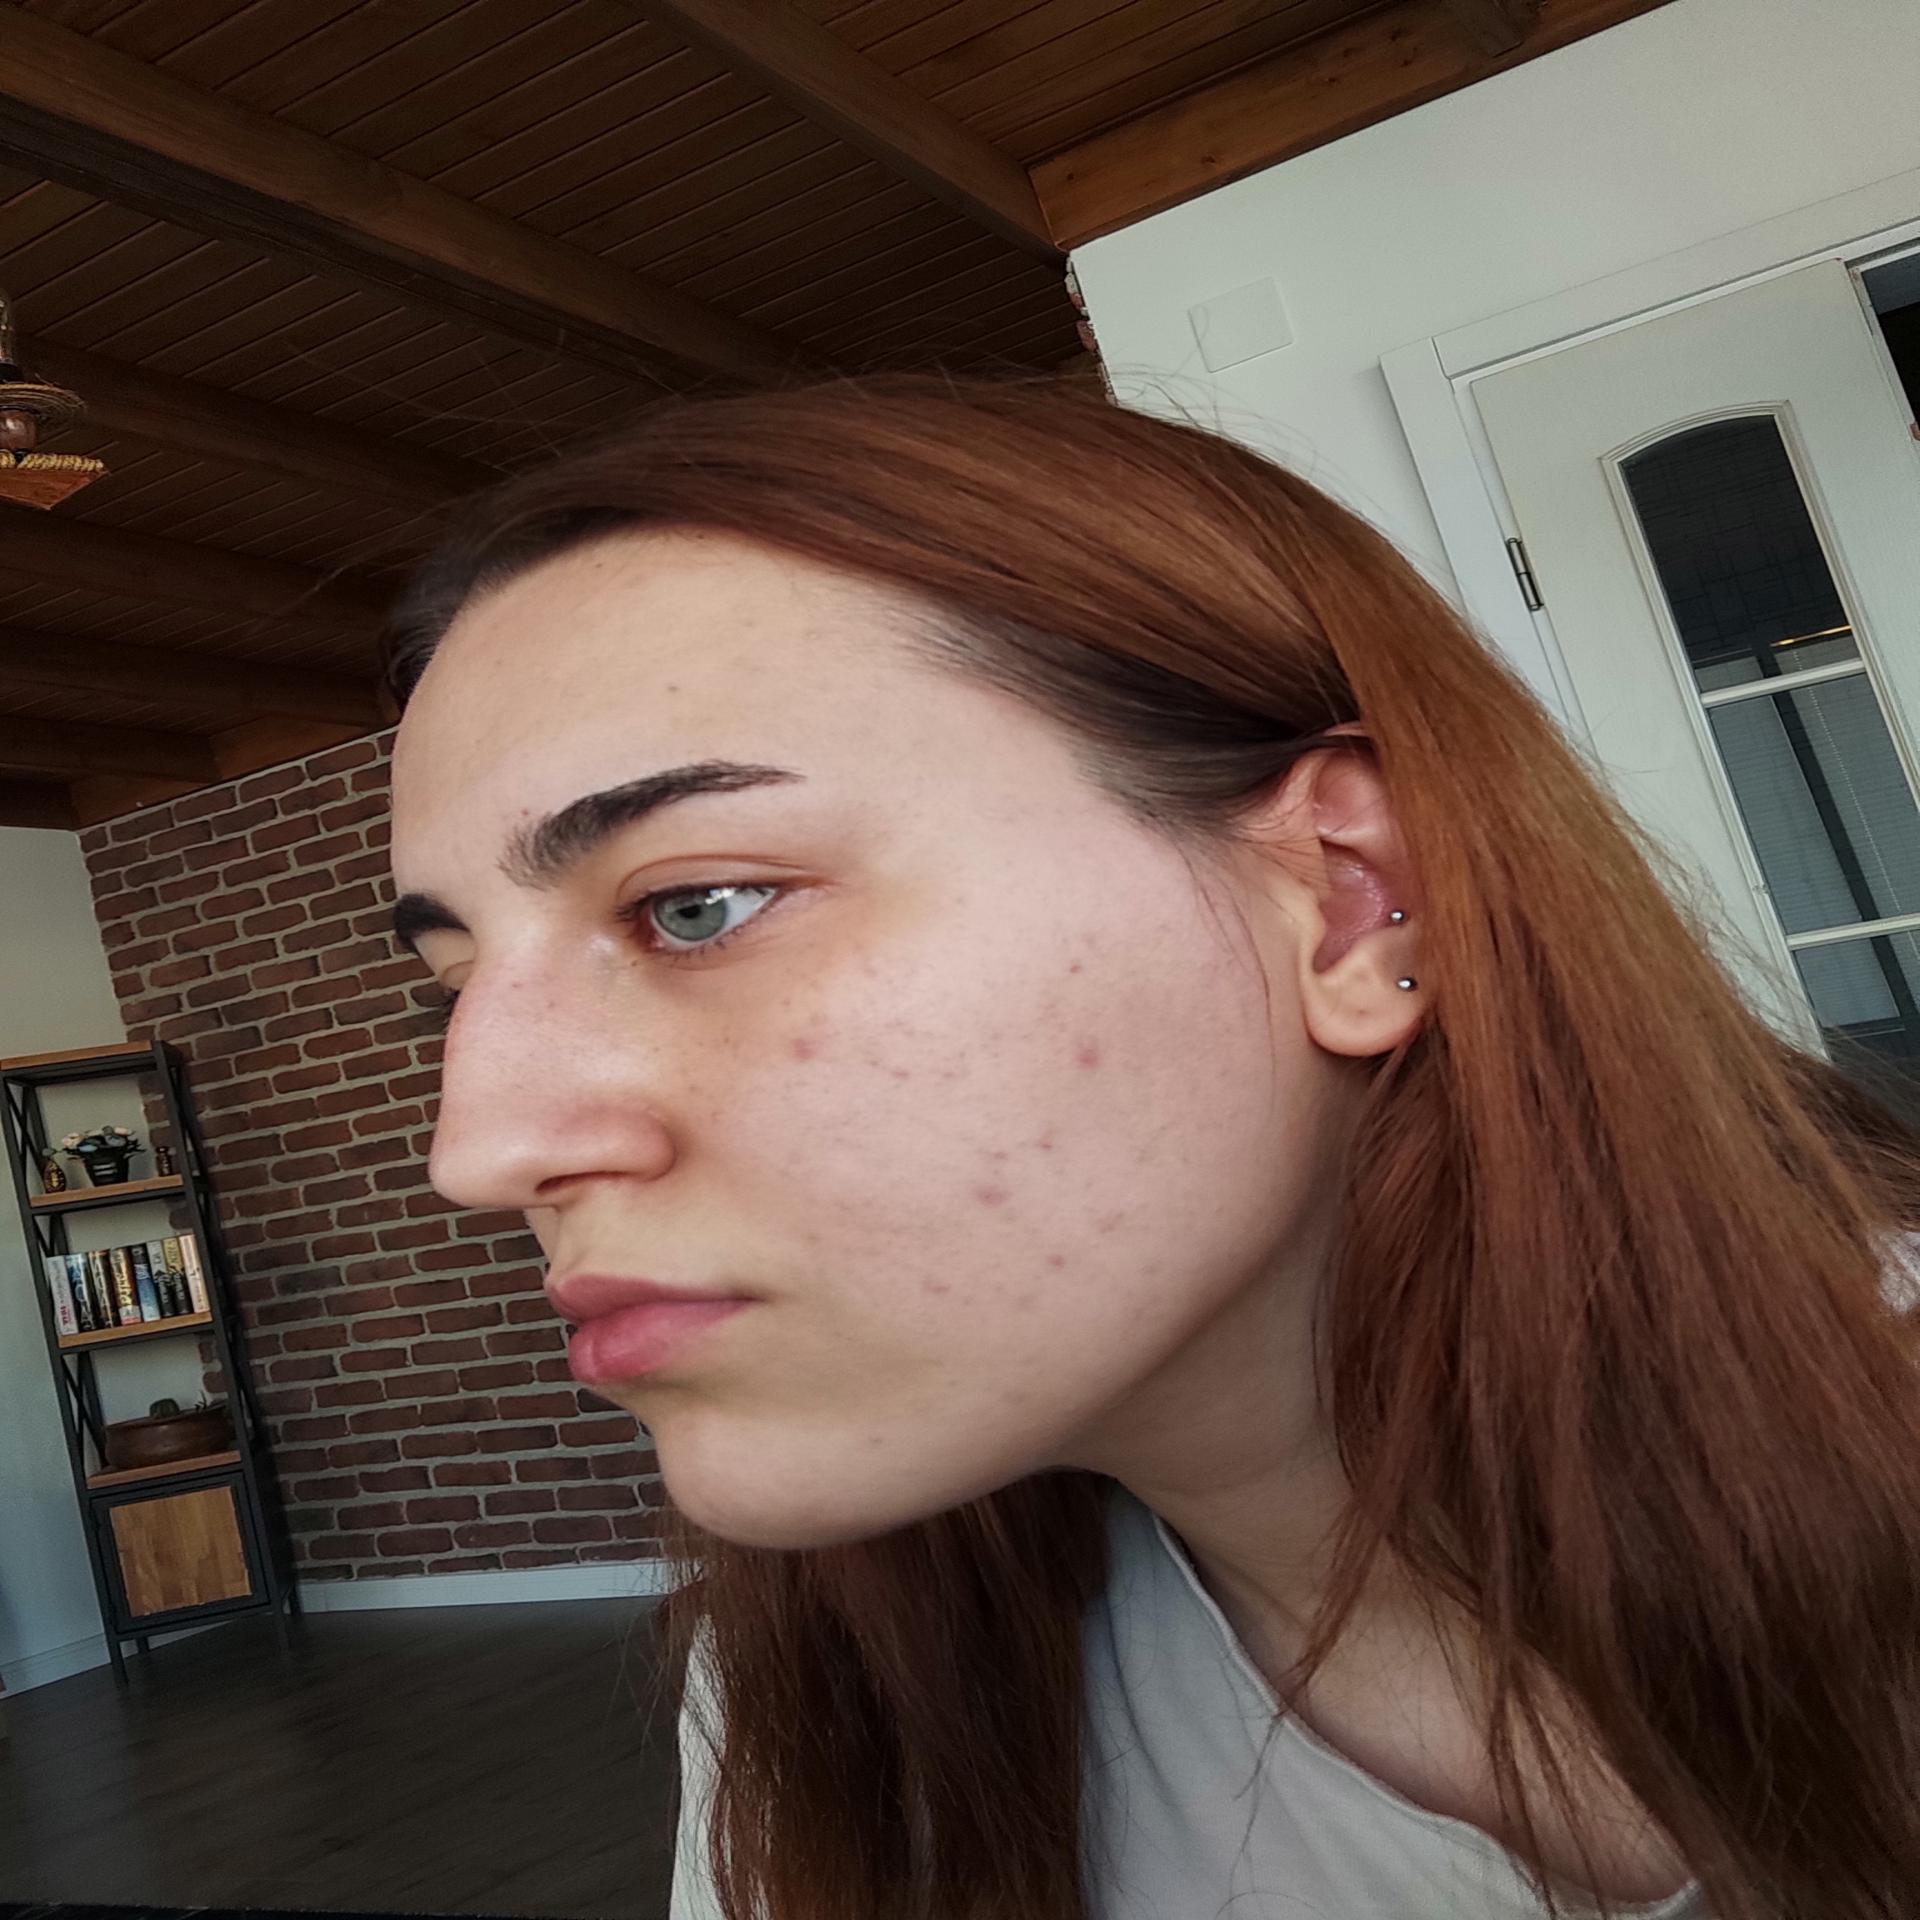Acne: (774, 1030, 828, 1065), (1067, 1032, 1115, 1069), (867, 1055, 916, 1090), (847, 1426, 895, 1459), (972, 1176, 1016, 1211), (1083, 1208, 1131, 1240), (1122, 1257, 1171, 1284), (1034, 1122, 1069, 1157), (914, 1276, 964, 1301), (1011, 1285, 1044, 1317), (1060, 956, 1090, 985), (983, 1143, 1016, 1166), (1053, 1252, 1076, 1273)
